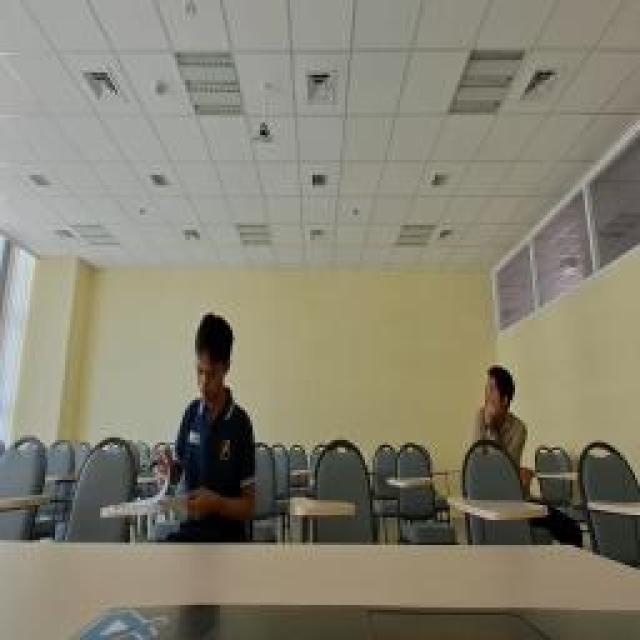study: (148, 297, 258, 545), (468, 358, 532, 500)
